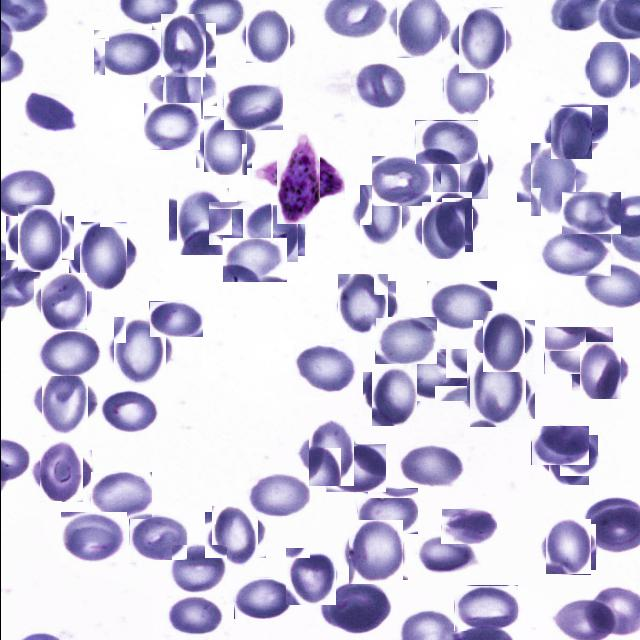red blood cell: (464, 358, 530, 423), (317, 581, 391, 634), (109, 321, 170, 382), (522, 150, 582, 210), (172, 191, 232, 251), (345, 523, 405, 582), (426, 281, 496, 331), (73, 228, 132, 286), (333, 277, 391, 335), (403, 348, 466, 401), (543, 326, 612, 374), (60, 512, 126, 562), (36, 372, 92, 430), (453, 11, 509, 69), (92, 30, 162, 76), (34, 328, 101, 376), (293, 344, 357, 394), (11, 210, 67, 266), (302, 425, 358, 481), (396, 444, 466, 488), (371, 156, 432, 206), (541, 232, 610, 276), (436, 141, 491, 196), (154, 58, 209, 113), (366, 368, 421, 422), (390, 0, 446, 53), (453, 585, 517, 631), (208, 508, 262, 562), (282, 550, 336, 604), (156, 18, 210, 72), (374, 317, 436, 364), (325, 444, 385, 492), (90, 472, 151, 519), (223, 82, 282, 130), (222, 238, 286, 282), (356, 488, 417, 534), (414, 120, 477, 164), (207, 201, 270, 245), (34, 446, 87, 498), (36, 276, 88, 329), (350, 62, 408, 109), (198, 120, 250, 172), (477, 315, 529, 367), (439, 61, 492, 112), (143, 104, 199, 152), (171, 545, 226, 593), (128, 515, 186, 560), (247, 474, 309, 516), (250, 208, 300, 260), (584, 46, 634, 98), (355, 190, 406, 240), (542, 522, 593, 572), (242, 11, 292, 61), (542, 430, 592, 480), (575, 346, 625, 396), (418, 206, 468, 256), (100, 390, 158, 433), (561, 192, 620, 234), (21, 90, 79, 132), (233, 578, 291, 619), (530, 425, 588, 465), (546, 109, 594, 157), (165, 596, 223, 635), (427, 195, 475, 242), (550, 104, 607, 143), (418, 536, 477, 571), (441, 508, 496, 544), (148, 301, 202, 337)
schizont: (264, 144, 332, 212)
